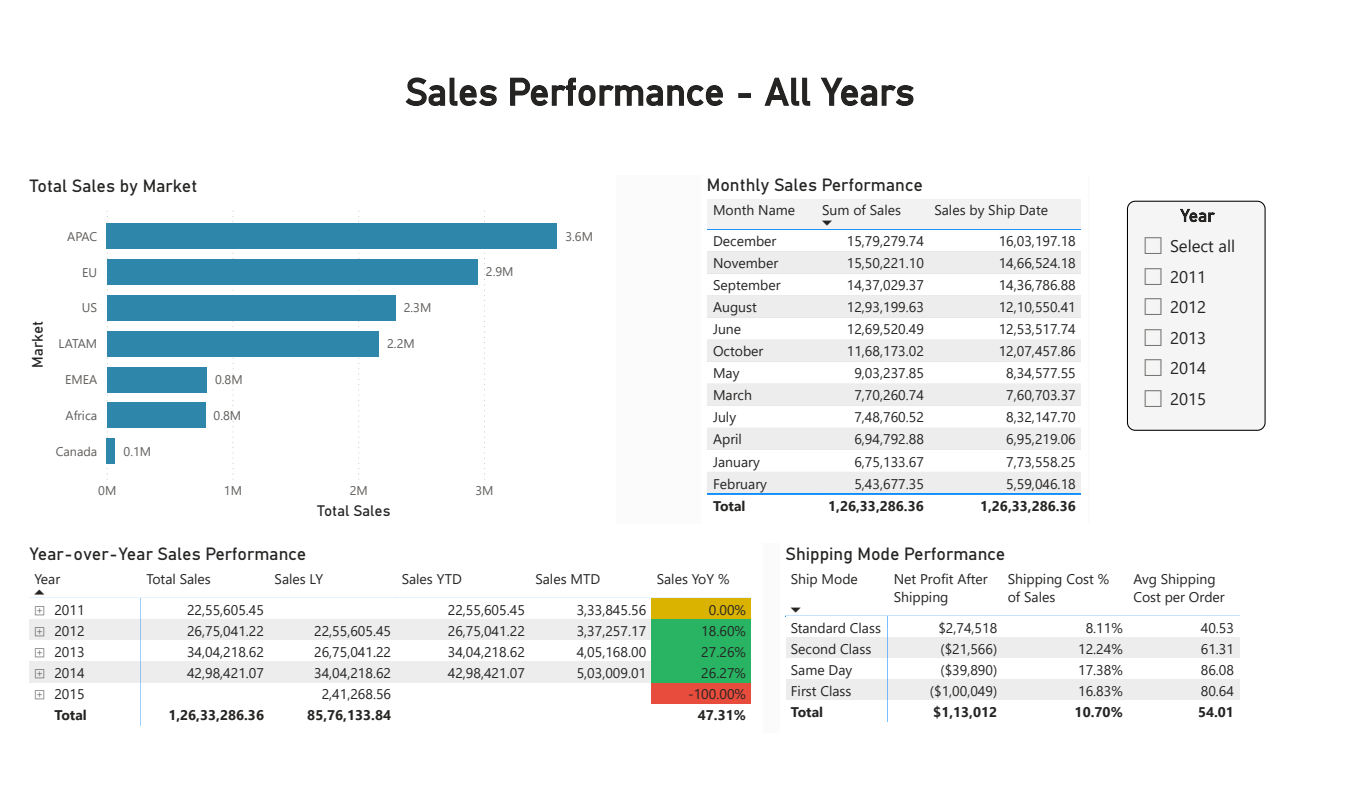

Layout of this report page (visuals, bound fields, positions):
{"tool":"powerbi","page":{"name":"Sales Performance Analytics","canvas":[1280,720],"ordinal":1},"visuals":[{"type":"shape","box":[0,0,1271.2,120],"z":0},{"type":"shape","box":[35,492.5,1161.2,180],"z":1000},{"type":"shape","box":[35,142.5,1013.8,332.5],"z":2000},{"type":"tableEx","title":"Monthly Sales Performance","fields":{"Values":["DimDate.Month Name","FactOrders.Sales","FactOrders.Sales by Ship Date"]},"box":[679.8,142.2,368.4,332.8],"z":3000},{"type":"pivotTable","title":"Shipping Mode Performance","fields":{"Rows":["DimShipMode.Ship Mode"],"Values":["_Key Measures.Net Profit After Shipping","_Key Measures.Shipping Cost % of Sales","_Key Measures.Avg Shipping Cost per Order"]},"box":[755,492.5,450,180],"z":4000},{"type":"pivotTable","title":"Year-over-Year Sales Performance","fields":{"Rows":["DimDate.Year","DimDate.Month Name"],"Values":["_Measures.Total Sales","_Key Measures.Sales LY","_Key Measures.Sales YTD","_Key Measures.Sales MTD","_Key Measures.Sales YoY %"]},"box":[35,492.5,702.5,180],"z":5000},{"type":"slicer","title":"Year","fields":{"Values":["DimDate.Year"]},"box":[1084.5,167.3,132.7,219.1],"z":6000},{"type":"card","fields":{"Values":["DimCustomer.Selected Year Subtitle"]},"box":[0,0,1271.2,120],"z":7000},{"type":"clusteredBarChart","fields":{"Category":["DimGeography.Market"],"Y":["_Measures.Total Sales"]},"box":[35,142.5,562.5,332.5],"z":8000}]}

Visuals, with their boxes on the page's 1280x720 design canvas (x1, y1, x2, y2). These are canvas units, not pixel positions in the 1357x807 screenshot, which may show the page scaled, cropped or inside an application window:
shape: bbox=(0, 0, 1271, 120)
shape: bbox=(35, 492, 1196, 672)
shape: bbox=(35, 142, 1049, 475)
"Monthly Sales Performance" tableEx: bbox=(680, 142, 1048, 475)
"Shipping Mode Performance" pivotTable: bbox=(755, 492, 1205, 672)
"Year-over-Year Sales Performance" pivotTable: bbox=(35, 492, 738, 672)
"Year" slicer: bbox=(1084, 167, 1217, 386)
card - DimCustomer.Selected Year Subtitle: bbox=(0, 0, 1271, 120)
clusteredBarChart - DimGeography.Market x _Measures.Total Sales: bbox=(35, 142, 598, 475)
